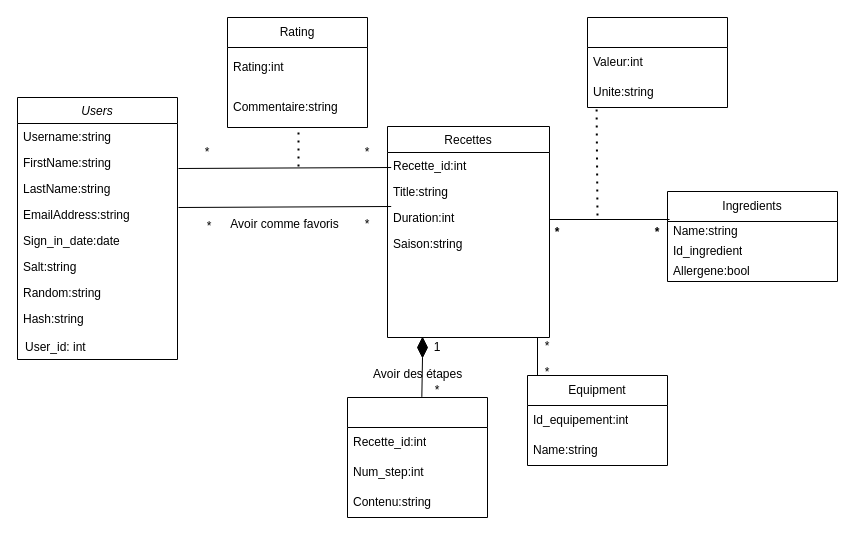
Some shapes in this 855 by 535 pixel diagram are drawn without their labels. Each missing label, with the box of its shape:
Quantity: (586, 16, 728, 108)
Steps: (346, 396, 488, 518)
